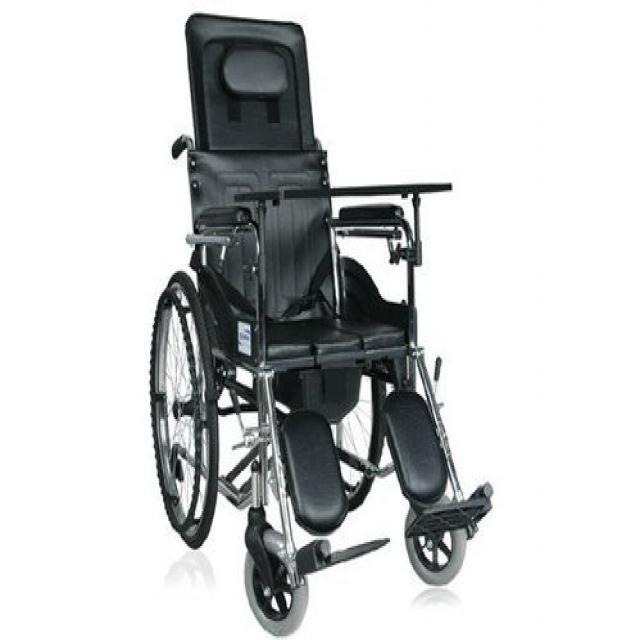wheelchair: (143, 6, 500, 638)
